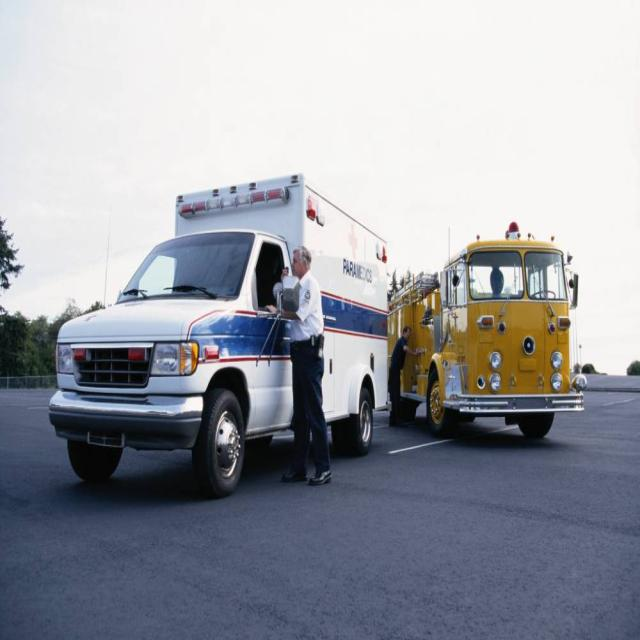emergency: (49, 174, 388, 496), (388, 222, 586, 438)
